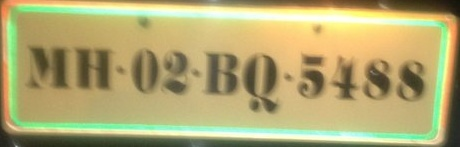character: (242, 52, 280, 111), (26, 45, 69, 93), (73, 44, 111, 89), (202, 52, 239, 95), (361, 56, 391, 103), (130, 45, 158, 94), (395, 59, 425, 102), (160, 50, 188, 96), (330, 55, 358, 101), (297, 52, 323, 100)
